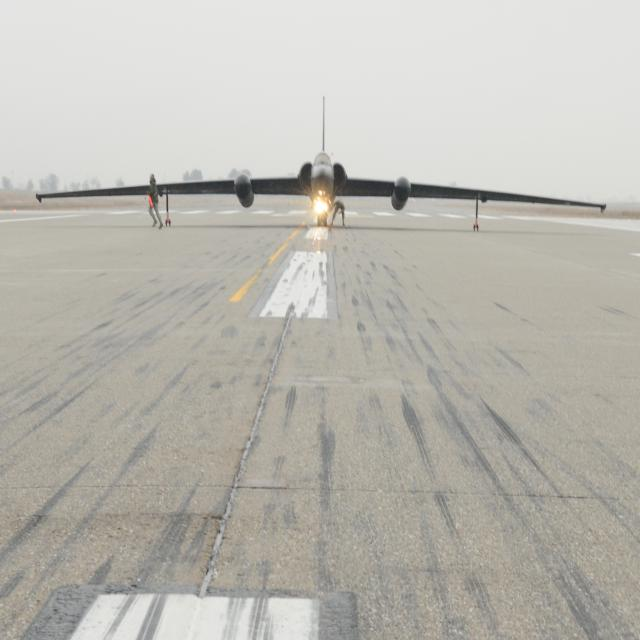MIL_Plane: (35, 96, 608, 231)
